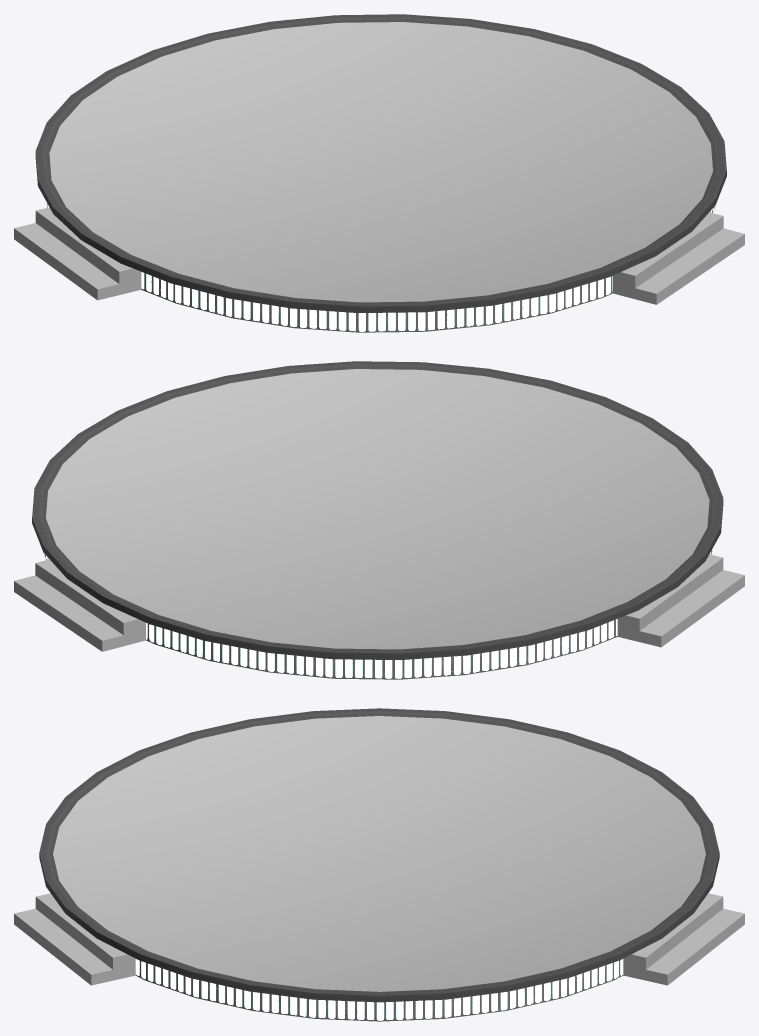
File: SmallPlatform.fbx
The picture shows the model from 3 angles, top to bottom: view 1: azimuth 30°, elevation 25°; view 2: azimuth 150°, elevation 25°; view 3: azimuth 270°, elevation 25°; orthographic projection.
Visible parts, largest first — view 1: SmallPlatform; view 2: SmallPlatform; view 3: SmallPlatform.
Part boxes in pixels (x1,y1,x2,y2): SmallPlatform: [14, 14, 744, 332]; SmallPlatform: [14, 361, 744, 679]; SmallPlatform: [14, 708, 744, 1021].
Size of the model in its own units: 18.97 by 0.8737 by 19.56.
